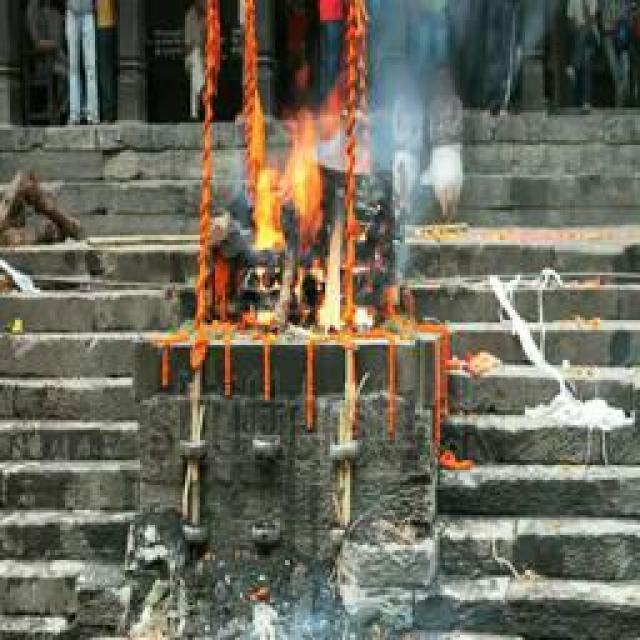Fire: (256, 124, 345, 343)
